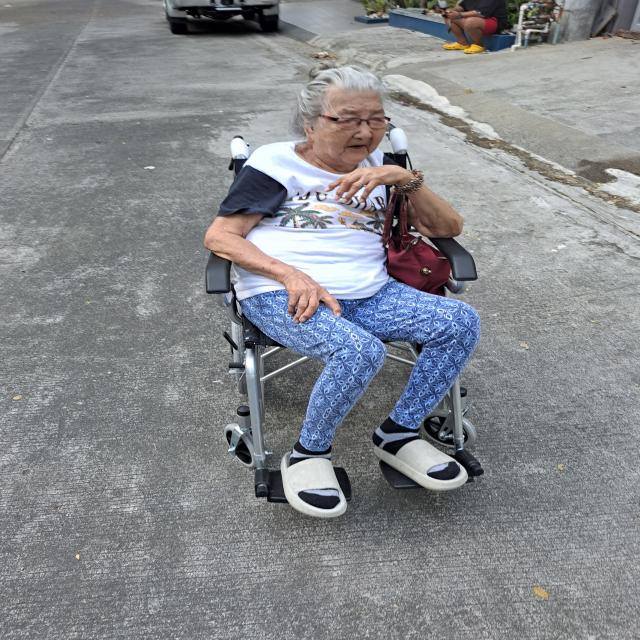wheelchairs: (205, 121, 485, 506)
